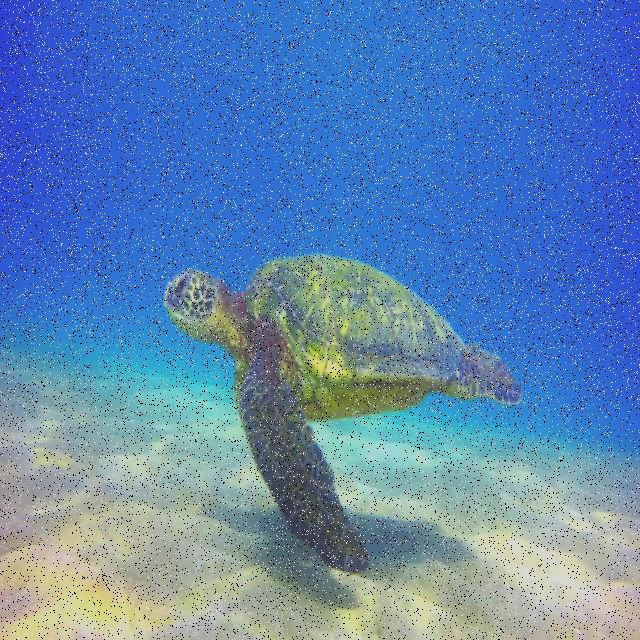tortoise: (144, 246, 526, 564)
